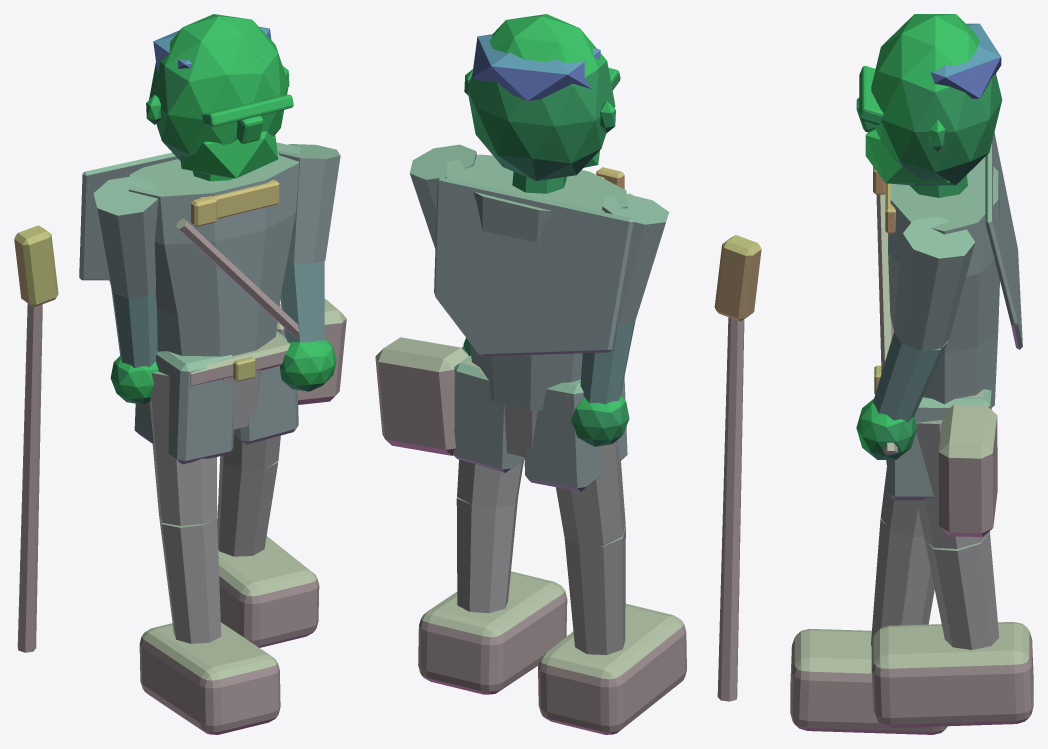
Rendered from npc_scout_passing_l_v01.glb.
The picture shows the model from 3 angles, left to right: view 1: azimuth 30°, elevation 25°; view 2: azimuth 150°, elevation 25°; view 3: azimuth 270°, elevation 25°; orthographic projection. The views are drawn at different scales.
Visible parts, largest first — view 1: GEO_npc_scout_passing_l_v01; view 2: GEO_npc_scout_passing_l_v01; view 3: GEO_npc_scout_passing_l_v01.
Boxes of the visible parts, box(x1,y1,x2,y2) form: GEO_npc_scout_passing_l_v01: box(14, 14, 346, 734); GEO_npc_scout_passing_l_v01: box(375, 14, 761, 734); GEO_npc_scout_passing_l_v01: box(790, 14, 1033, 734).
Size of the model in its own units: 1.1 by 2.06 by 0.6278.
